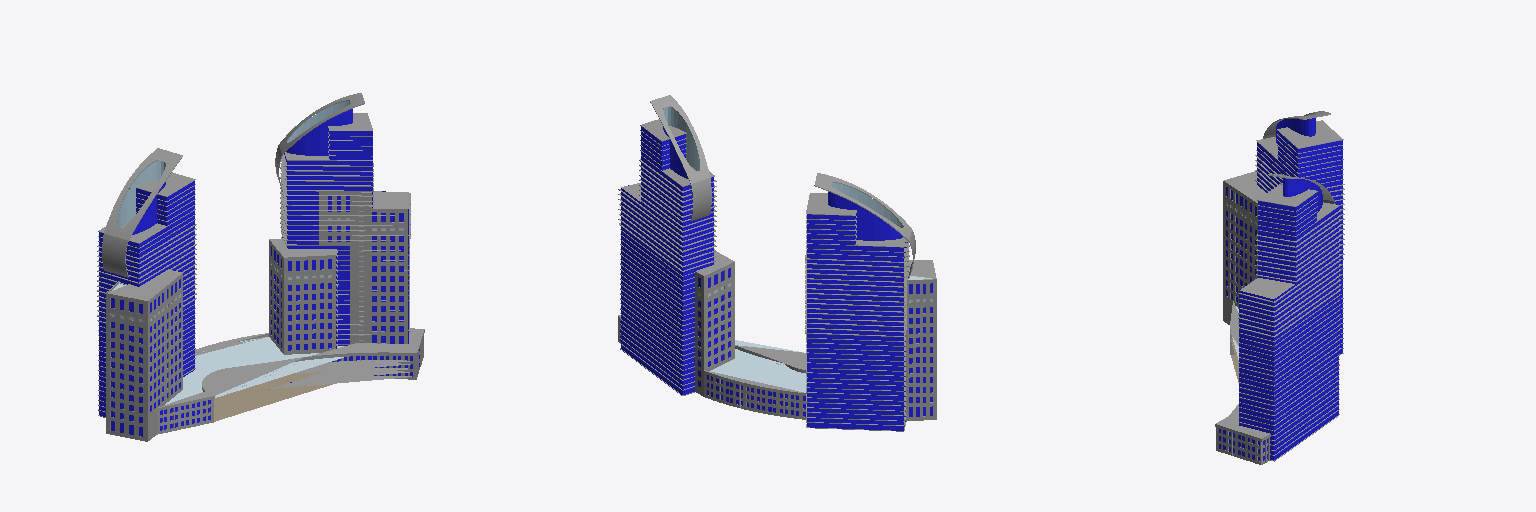
File: 003oneObj_yUP.obj
3 views of the same model, side by side, from view 1: azimuth 30°, elevation 25°; view 2: azimuth 150°, elevation 25°; view 3: azimuth 270°, elevation 25° (orthographic).
Visible parts, largest first — view 1: Obj3d66_592002_170_389; view 2: Obj3d66_592002_170_389; view 3: Obj3d66_592002_170_389.
Boxes of the visible parts, x1,y1,x2,y2 form: Obj3d66_592002_170_389: [97, 93, 424, 441]; Obj3d66_592002_170_389: [618, 95, 936, 431]; Obj3d66_592002_170_389: [1215, 111, 1344, 464].
Bounding box in the file's own units: 21200 × 16748 × 7456.